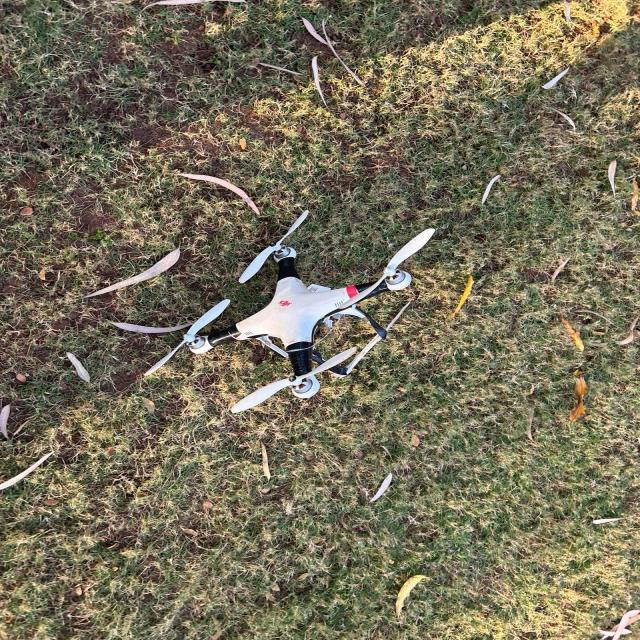drone: (67, 152, 524, 486)
